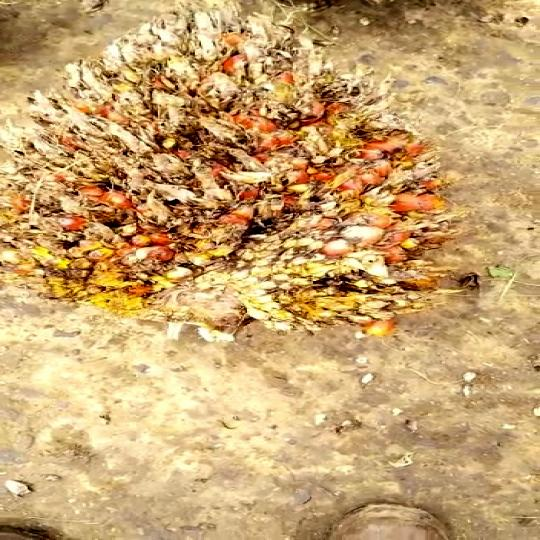terlalu masak: (0, 0, 477, 348)
